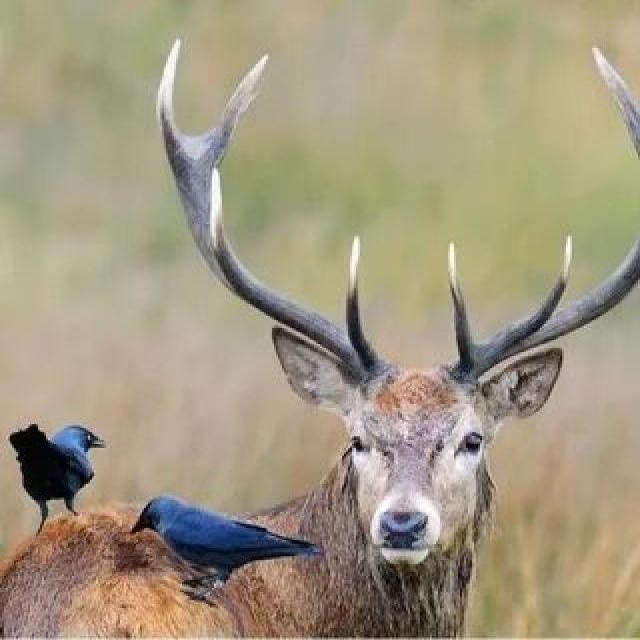deer: (101, 73, 599, 580)
